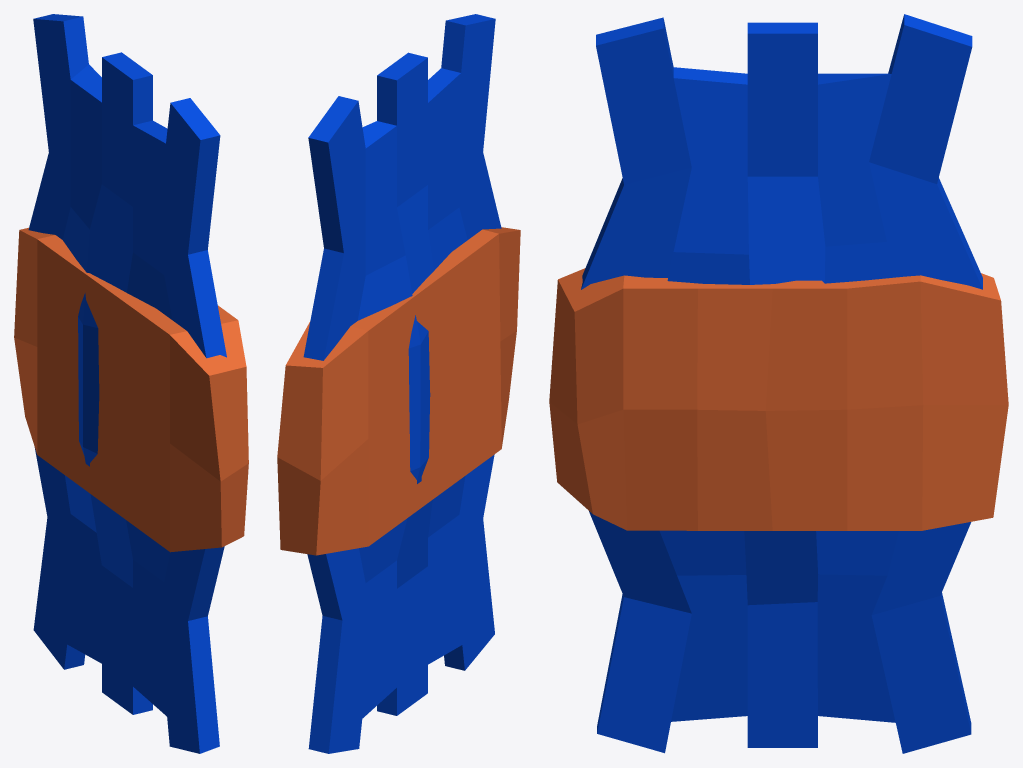
File: SM_SEKERı.fbx
3 renders of one model, left to right at view 1: azimuth 30°, elevation 25°; view 2: azimuth 150°, elevation 25°; view 3: azimuth 270°, elevation 25°, orthographic. The views are drawn at different scales.
Visible parts, largest first — view 1: Cube.002; view 2: Cube.002; view 3: Cube.002.
Boxes of the visible parts, x1,y1,x2,y2 form: Cube.002: (14, 14, 248, 753); Cube.002: (277, 14, 520, 753); Cube.002: (549, 14, 1008, 753).
Bounding box in the file's own units: 16.03 × 128 × 73.01.
